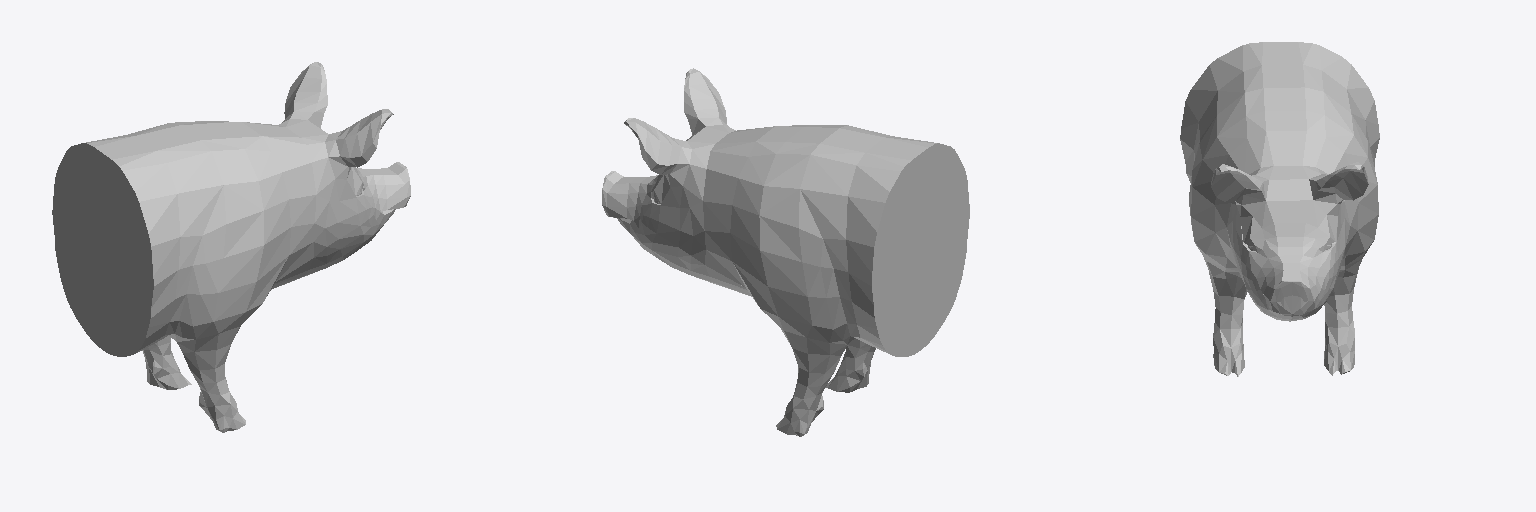
Rendered from schwein_vorne.obj.
3 renders of one model, left to right at view 1: azimuth 30°, elevation 25°; view 2: azimuth 150°, elevation 25°; view 3: azimuth 270°, elevation 25°, orthographic.
Visible parts, largest first — view 1: pig.001; view 2: pig.001; view 3: pig.001.
Part boxes in pixels (x1,y1,x2,y2): pig.001: (52, 62, 410, 432); pig.001: (602, 68, 969, 436); pig.001: (1180, 42, 1379, 376).
Size of the model in its own units: 1.62 by 1.42 by 0.9135.